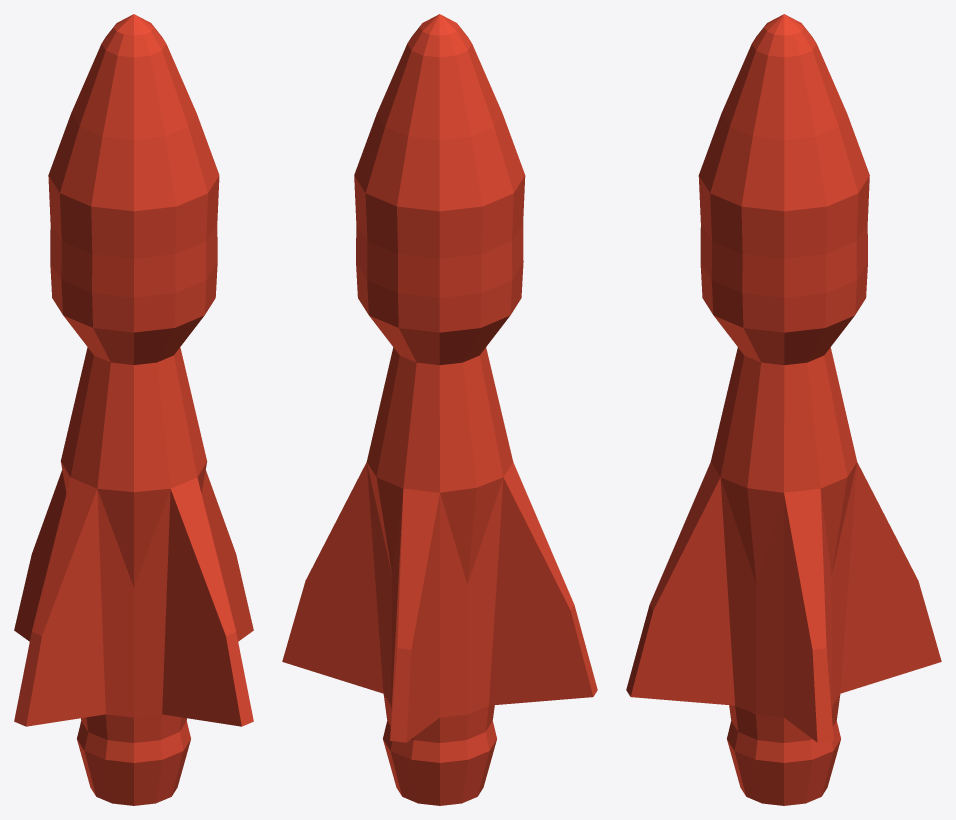
Rendered from Missile 9.fbx.
The picture shows the model from 3 angles, left to right: view 1: azimuth 30°, elevation 25°; view 2: azimuth 150°, elevation 25°; view 3: azimuth 270°, elevation 25°; orthographic projection.
Parts seen in each view (by area): view 1: Cube.003; view 2: Cube.003; view 3: Cube.003.
Part boxes in pixels (x1,y1,x2,y2): Cube.003: [14, 14, 253, 805]; Cube.003: [282, 14, 597, 805]; Cube.003: [626, 14, 941, 805].
Size of the model in its own units: 357 by 964 by 357.
